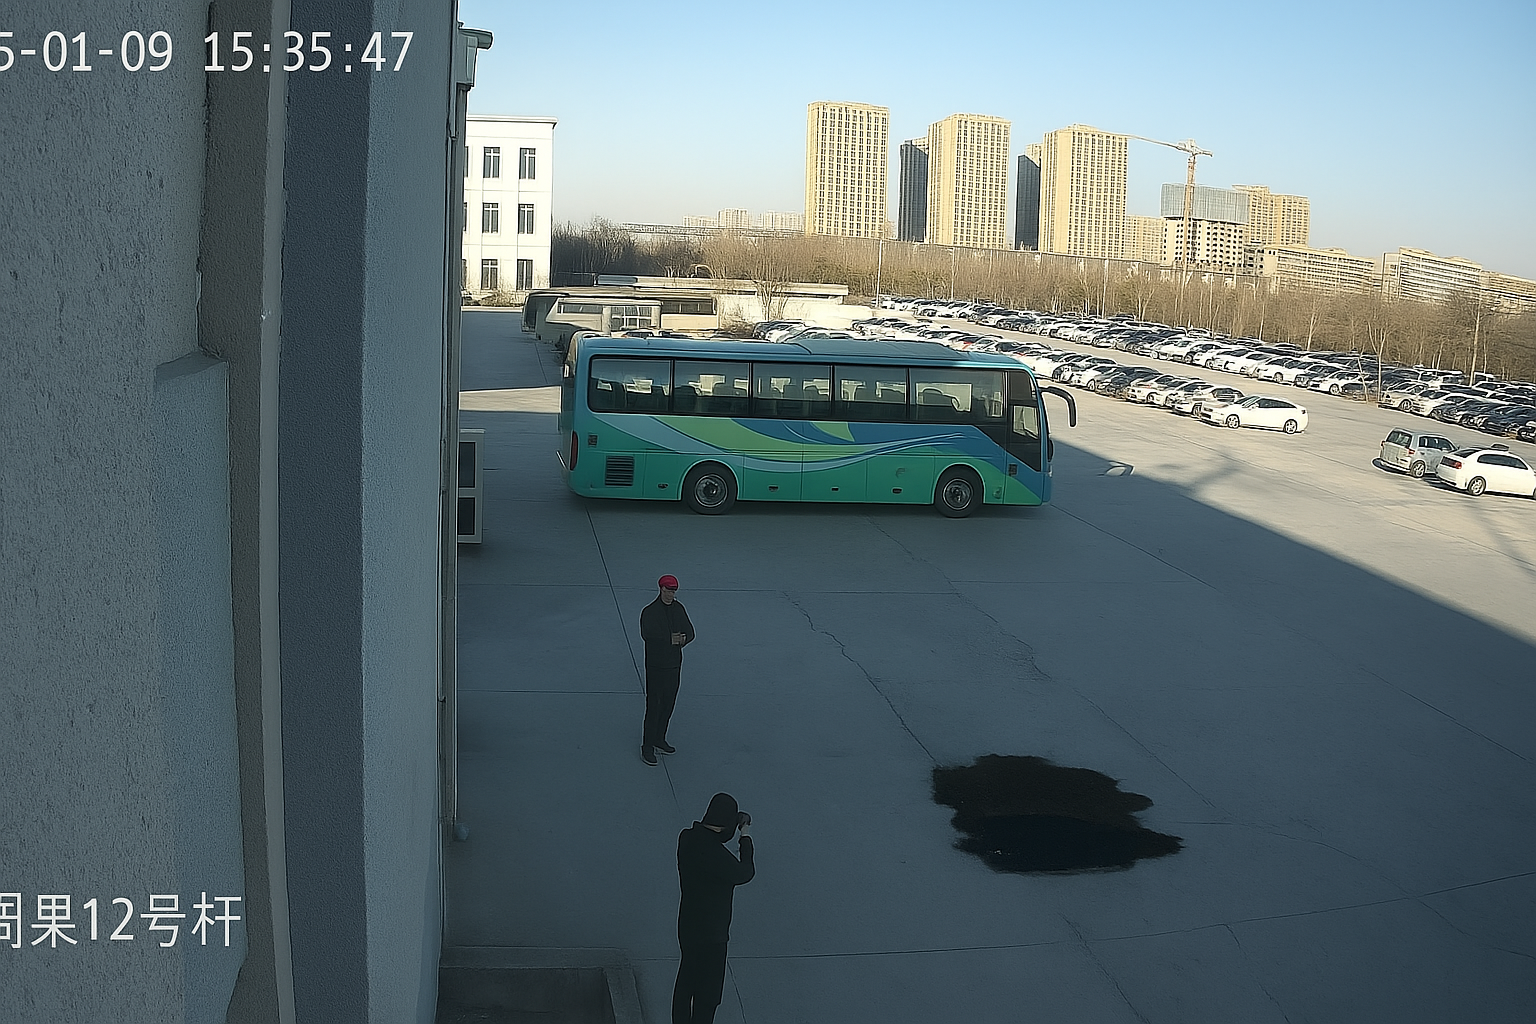oil_leakage: (920, 750, 1200, 886)
